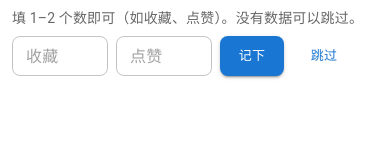
Test: RetroFillForm › refuses to reconcile when nothing has been published yet
Click the button "记下": [252, 56] box [220,36,284,76]
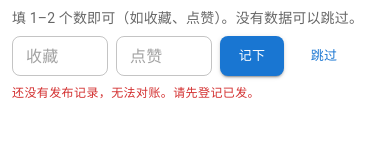
Expected: the message reads "还没有发布记录，无法对账。请先登记已发。", [12,86,260,100]
